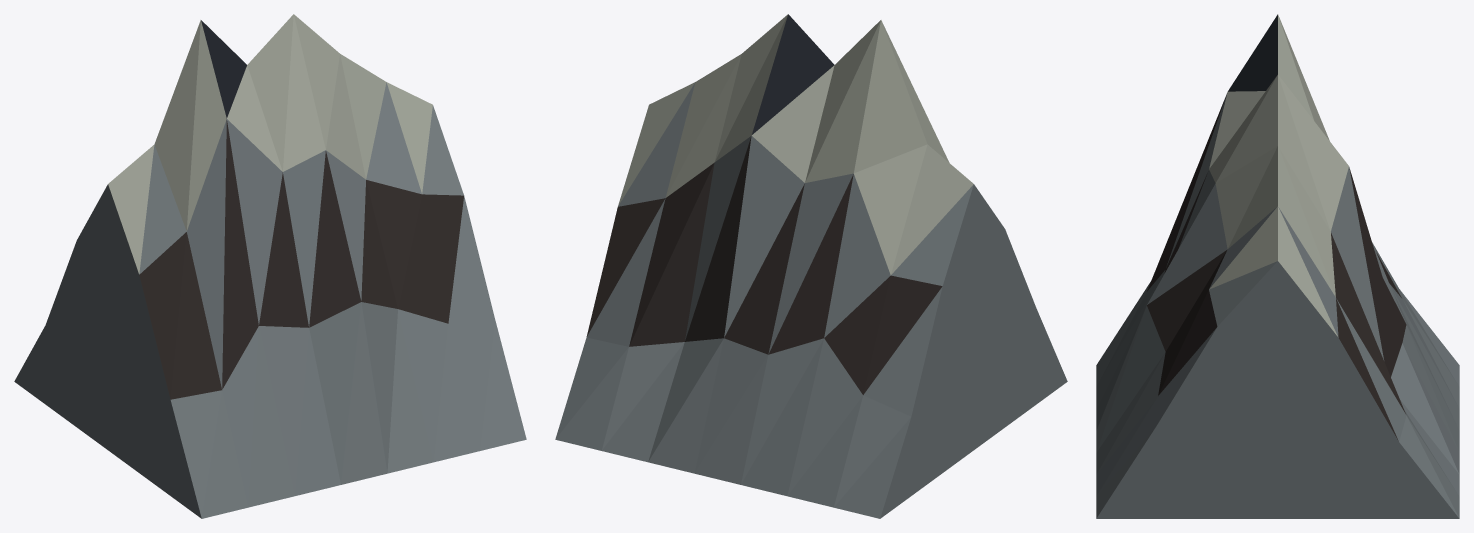
The model's file is Mountain_C.fbx.
3 views of the same model, side by side, from view 1: azimuth 30°, elevation 25°; view 2: azimuth 150°, elevation 25°; view 3: azimuth 270°, elevation 25° (orthographic). The views are drawn at different scales.
Visible parts, largest first — view 1: Mountain_C; view 2: Mountain_C; view 3: Mountain_C.
Boxes of the visible parts, <box> form: Mountain_C: <box>14,14,526,518</box>; Mountain_C: <box>555,14,1067,518</box>; Mountain_C: <box>1096,14,1459,518</box>.
Bounding box in the file's own units: 3 × 3.6 × 3.
1 material, 1 textured.
